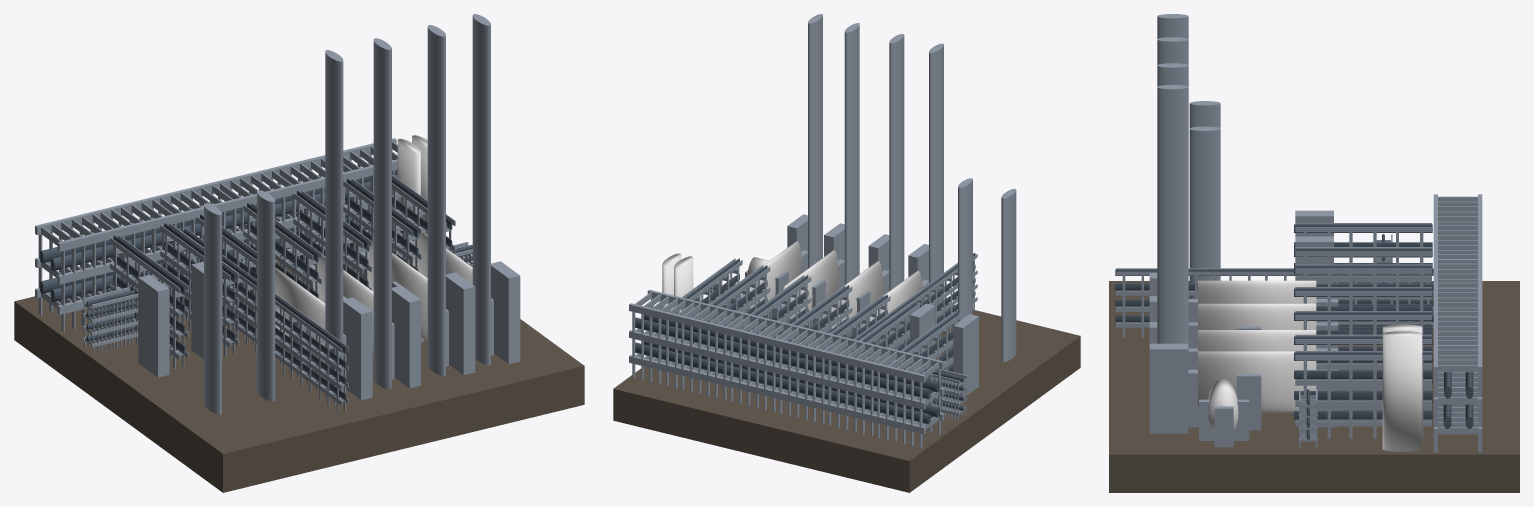
The model's file is Gas Turbine Generator & Boiler_2_cube.fbx.
3 renders of one model, left to right at view 1: azimuth 30°, elevation 25°; view 2: azimuth 150°, elevation 25°; view 3: azimuth 270°, elevation 25°, orthographic. The views are drawn at different scales.
Parts seen in each view (by area): view 1: GasTurbineGenerator&Boiler_2_cube; view 2: GasTurbineGenerator&Boiler_2_cube; view 3: GasTurbineGenerator&Boiler_2_cube.
Part boxes in pixels (x1,y1,x2,y2): GasTurbineGenerator&Boiler_2_cube: [14, 14, 584, 492]; GasTurbineGenerator&Boiler_2_cube: [613, 14, 1080, 492]; GasTurbineGenerator&Boiler_2_cube: [1109, 14, 1519, 492].
Bounding box in the file's own units: 10000 × 10000 × 10000.
